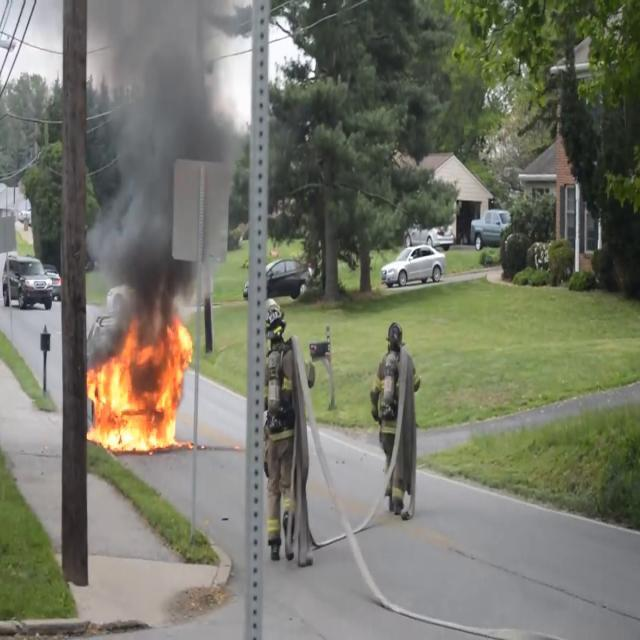Fire: (85, 318, 195, 454)
Smoke: (82, 0, 252, 324)
